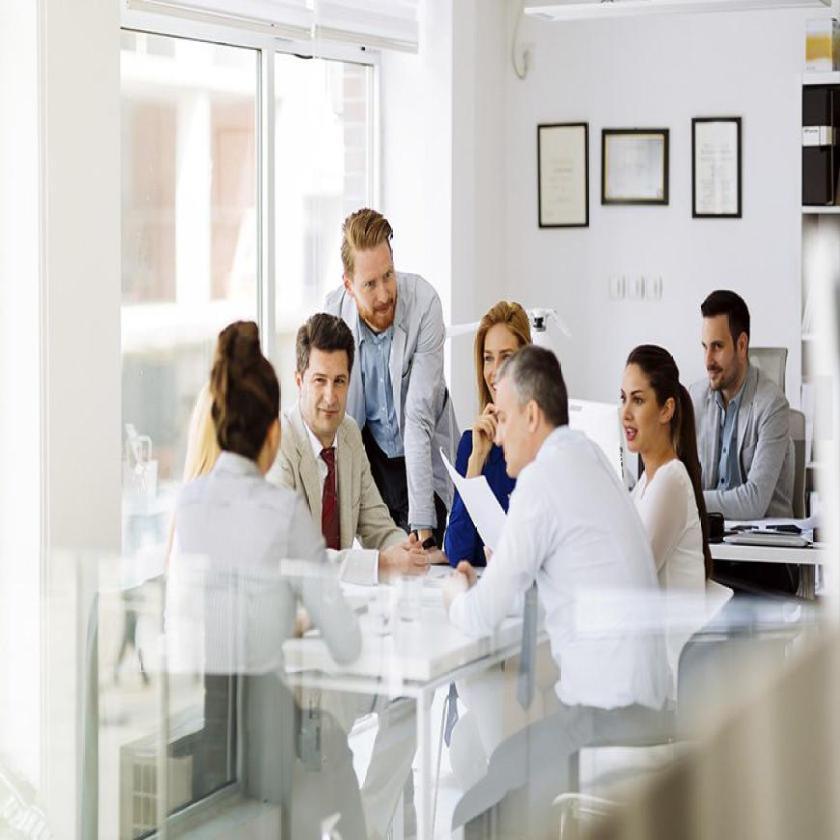Sin_casco: (204, 320, 290, 488), (496, 342, 567, 484), (616, 337, 683, 470), (336, 203, 400, 335), (293, 314, 359, 437), (695, 288, 759, 400), (478, 296, 531, 409)
